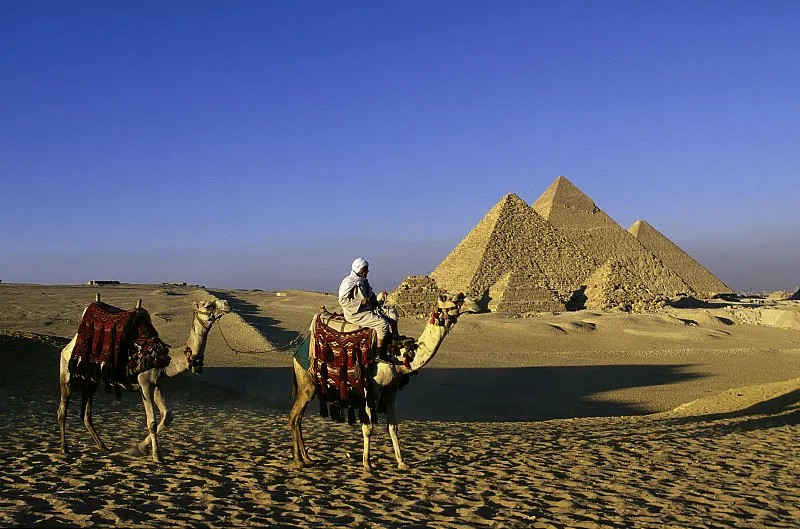Pyramid: (531, 176, 695, 297), (428, 191, 602, 301), (628, 218, 733, 294), (475, 269, 565, 312), (580, 259, 653, 301), (383, 276, 448, 316)
